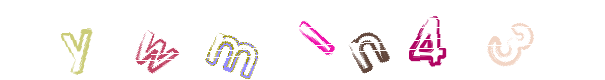3: (316, 0, 396, 80)
4: (297, 0, 377, 80)
L: (262, 0, 342, 80)
M: (262, 0, 342, 80)
N: (277, 0, 357, 80)
W: (194, 0, 274, 80)
Y: (134, 0, 214, 80)
